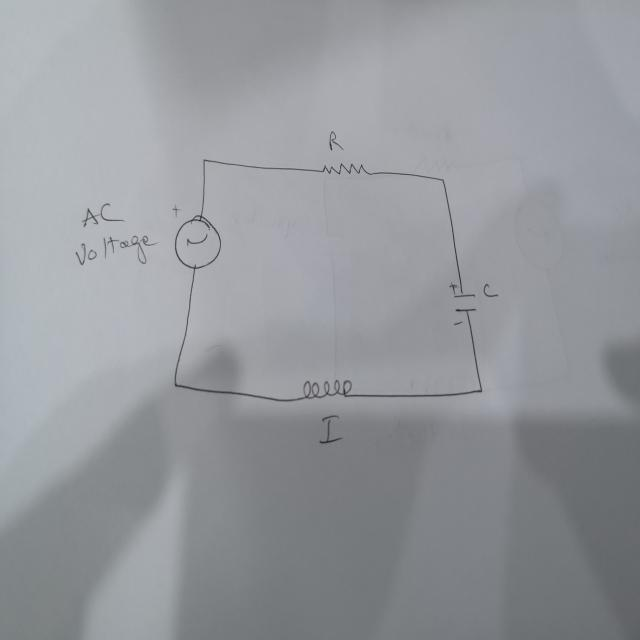capacitor: (447, 280, 479, 328)
inductor: (301, 376, 353, 403)
junction: (438, 172, 448, 188), (171, 377, 179, 390), (476, 383, 484, 395), (200, 154, 208, 166)
resistor: (319, 160, 372, 178)
source: (171, 202, 222, 272)
text: (74, 231, 159, 268), (80, 200, 127, 230), (318, 414, 345, 445), (327, 127, 344, 152), (482, 282, 498, 300)
